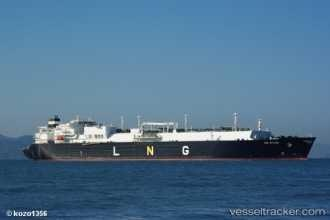Cargoship: (22, 111, 322, 162)
